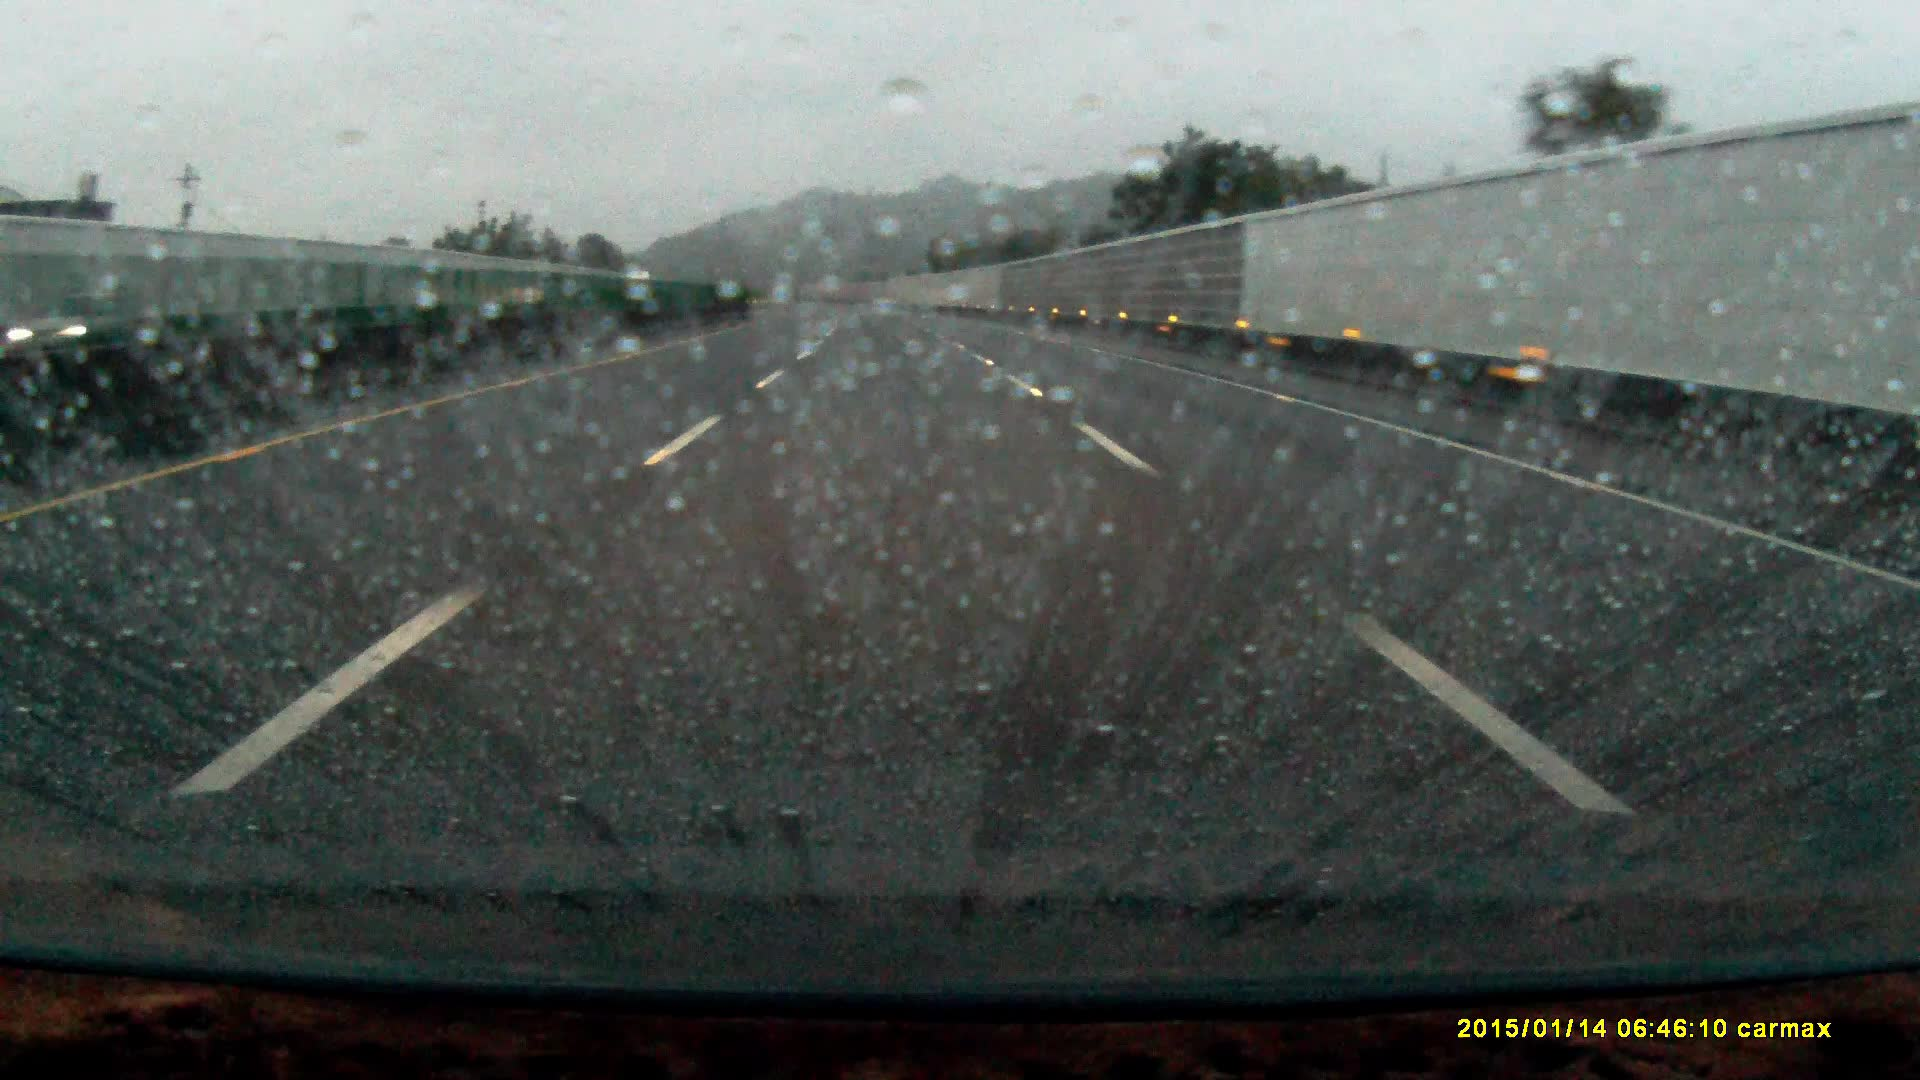vehicle: (55, 293, 123, 349)
